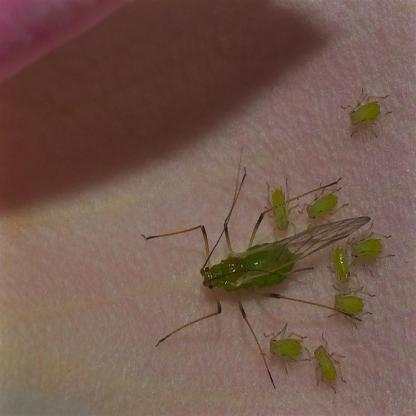aphid: (160, 183, 358, 333), (344, 77, 393, 140), (266, 312, 309, 378), (307, 341, 352, 394), (330, 286, 375, 332), (349, 230, 396, 274), (264, 177, 299, 233), (300, 175, 340, 221), (328, 240, 355, 290)
